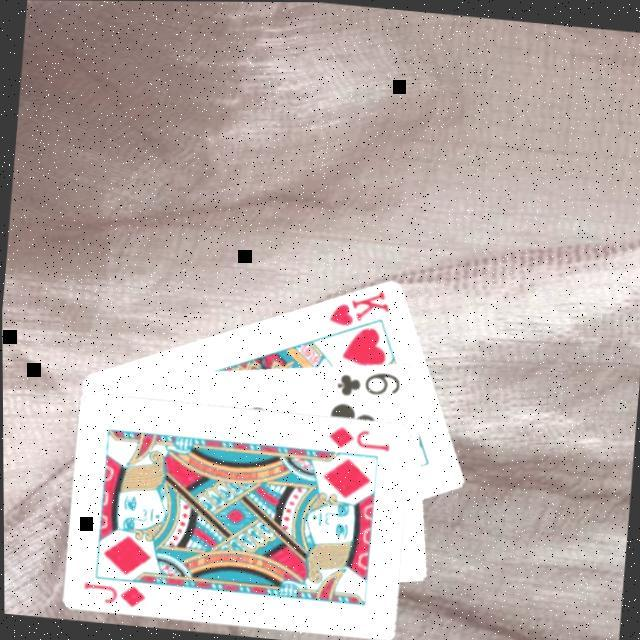6C: (334, 361, 406, 401)
JD: (326, 418, 396, 452), (81, 574, 151, 608)
KH: (326, 280, 396, 330)
